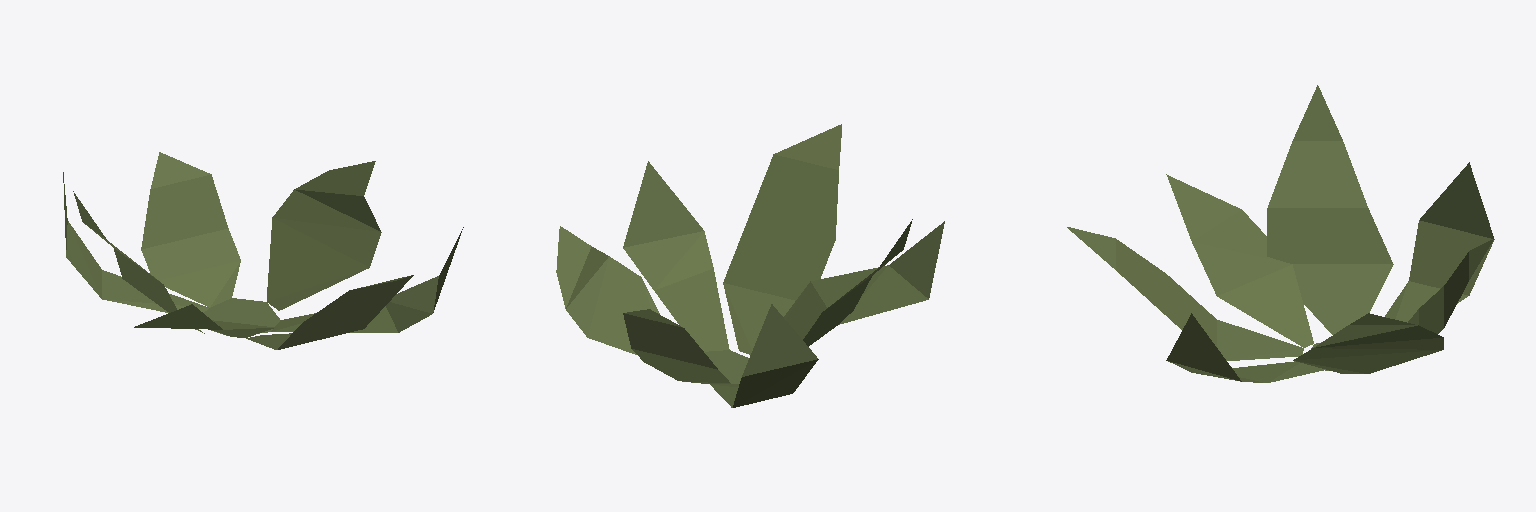
3 renders of one model, left to right at view 1: azimuth 30°, elevation 25°; view 2: azimuth 150°, elevation 25°; view 3: azimuth 270°, elevation 25°, orthographic.
Parts seen in each view (by area): view 1: Geode.Geode_Geode; view 2: Geode.Geode_Geode; view 3: Geode.Geode_Geode.
Part boxes in pixels (x1,y1,x2,y2): Geode.Geode_Geode: (63, 152, 463, 349); Geode.Geode_Geode: (556, 124, 944, 407); Geode.Geode_Geode: (1067, 85, 1494, 382).
Size of the model in its own units: 1.46 by 0.7812 by 1.66.
Materials: 1 (1 with a texture image).